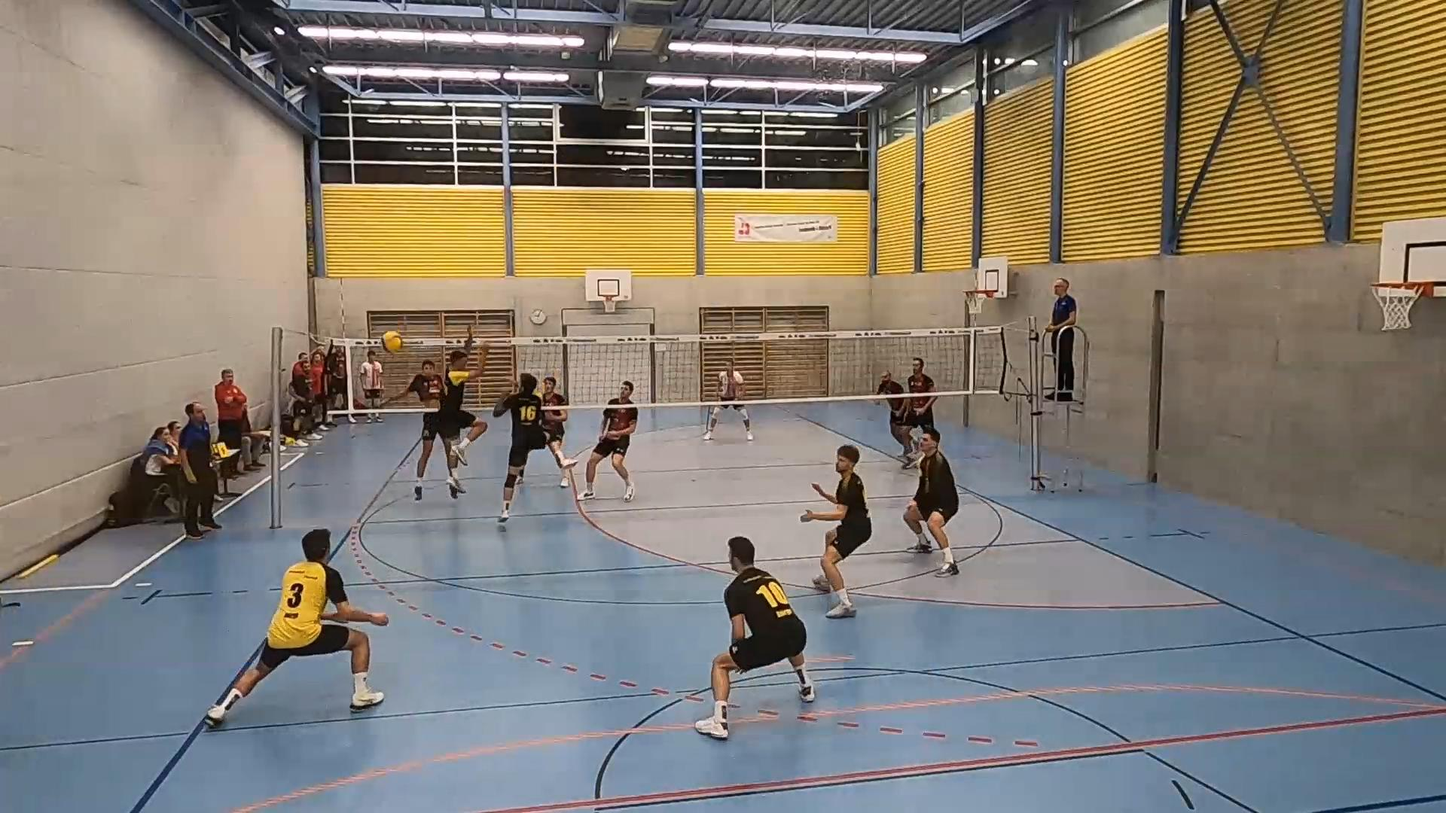attacco: (385, 350, 466, 502)
muro: (492, 371, 580, 524), (436, 323, 496, 502)
